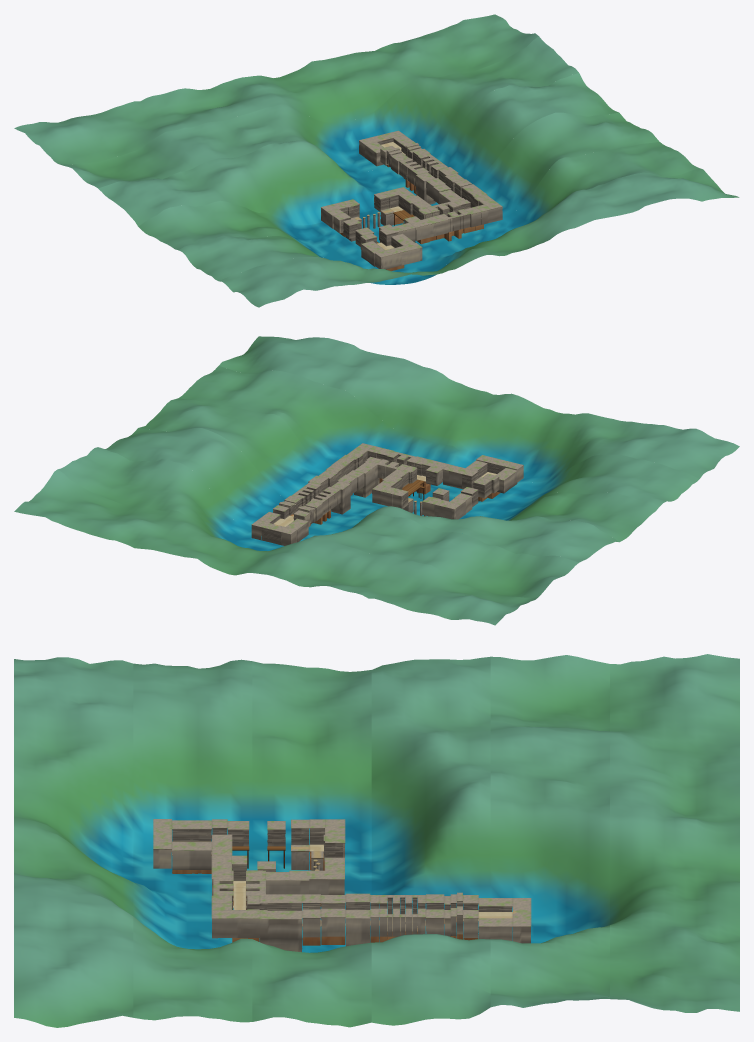
File: smugglers_grotto_terrain.glb
The picture shows the model from 3 angles, top to bottom: view 1: azimuth 30°, elevation 25°; view 2: azimuth 150°, elevation 25°; view 3: azimuth 270°, elevation 25°; orthographic projection. The views are drawn at different scales.
Visible parts, largest first — view 1: backdrop_5, backdrop_3, backdrop_4, backdrop_2, backdrop_0, backdrop_1, terrain_E, terrain_F, terrain_D, terrain_A, terrain_C, terrain_H (+4 smaller); view 2: backdrop_0, backdrop_5, backdrop_1, backdrop_4, backdrop_3, backdrop_2, terrain_D, terrain_E, terrain_F, terrain_J, terrain_C, terrain_H (+4 smaller); view 3: backdrop_5, backdrop_0, backdrop_4, backdrop_3, backdrop_1, backdrop_2, terrain_F, terrain_H, terrain_A, terrain_D, terrain_G, terrain_B (+4 smaller).
Part boxes in pixels (left/top/right/bottom): backdrop_5: left=14, top=14, right=538, bottom=164; backdrop_3: left=98, top=73, right=618, bottom=226; backdrop_4: left=59, top=36, right=578, bottom=188; backdrop_2: left=138, top=112, right=658, bottom=258; backdrop_0: left=219, top=168, right=739, bottom=307; backdrop_1: left=178, top=141, right=699, bottom=284; terrain_E: left=404, top=198, right=481, bottom=244; terrain_F: left=433, top=179, right=502, bottom=230; terrain_D: left=379, top=187, right=431, bottom=246; terrain_A: left=361, top=233, right=422, bottom=270; terrain_C: left=321, top=192, right=394, bottom=236; terrain_H: left=392, top=148, right=447, bottom=193; backdrop_0: left=219, top=336, right=739, bottom=482; backdrop_5: left=14, top=469, right=538, bottom=625; backdrop_1: left=178, top=366, right=699, bottom=515; backdrop_4: left=58, top=447, right=578, bottom=597; backdrop_3: left=105, top=428, right=618, bottom=562; backdrop_2: left=139, top=398, right=659, bottom=541; terrain_D: left=372, top=464, right=478, bottom=506; terrain_E: left=365, top=448, right=448, bottom=494; terrain_F: left=326, top=443, right=382, bottom=497; terrain_J: left=251, top=512, right=308, bottom=545; terrain_C: left=393, top=489, right=466, bottom=519; terrain_H: left=284, top=482, right=340, bottom=525; backdrop_5: left=610, top=654, right=739, bottom=1012; backdrop_0: left=14, top=657, right=133, bottom=1027; backdrop_4: left=490, top=655, right=609, bottom=1007; backdrop_3: left=371, top=656, right=490, bottom=1025; backdrop_1: left=133, top=659, right=252, bottom=1022; backdrop_2: left=252, top=661, right=371, bottom=1027; terrain_F: left=211, top=894, right=320, bottom=951; terrain_H: left=370, top=894, right=444, bottom=942; terrain_A: left=153, top=819, right=211, bottom=873; terrain_D: left=212, top=834, right=344, bottom=906; terrain_G: left=321, top=893, right=370, bottom=946; terrain_B: left=212, top=819, right=309, bottom=870.
Bounding box in the file's own units: 532 × 63.51 × 469.
